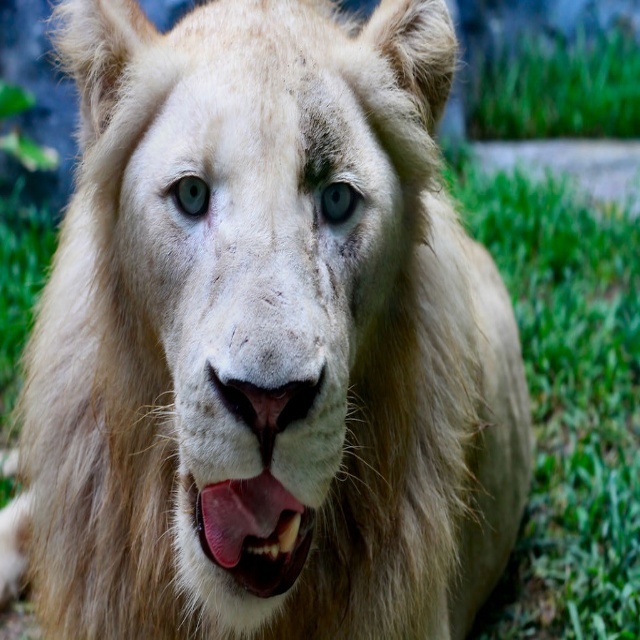Lion: (0, 0, 535, 639)
